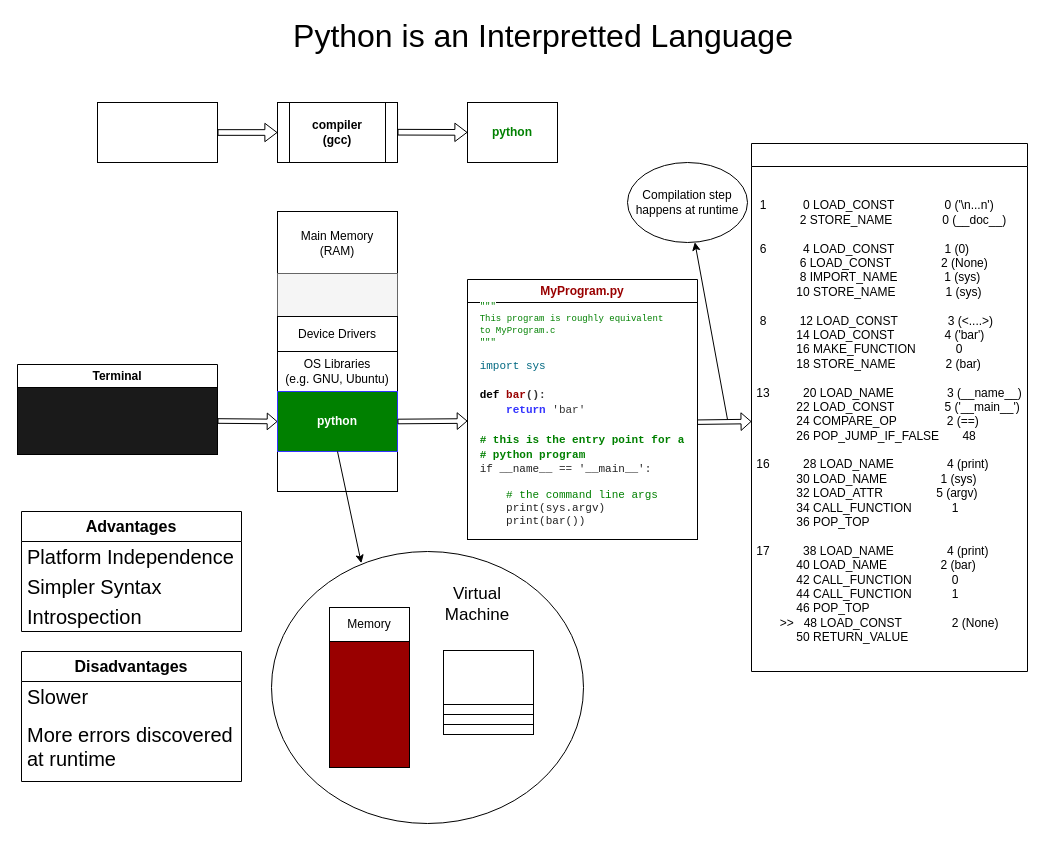
The diagram is 1045 pixels wide and 841 high, and some of its shapes have lost their labels. Here are the shapes that lost their labels. From the top down, the box of each, then its label:
(96, 102, 218, 162): CPython.c
(276, 272, 398, 322): OS Kernel (e.g. Linux)
(16, 386, 218, 454): > python MyProgram.py arg1 arg2 ['MyProgram.py', 'arg1', 'arg2' ] bar >
(750, 142, 1028, 672): MyProgram.pyc
(328, 640, 410, 768): MyProgram
(442, 650, 534, 724): CPU
